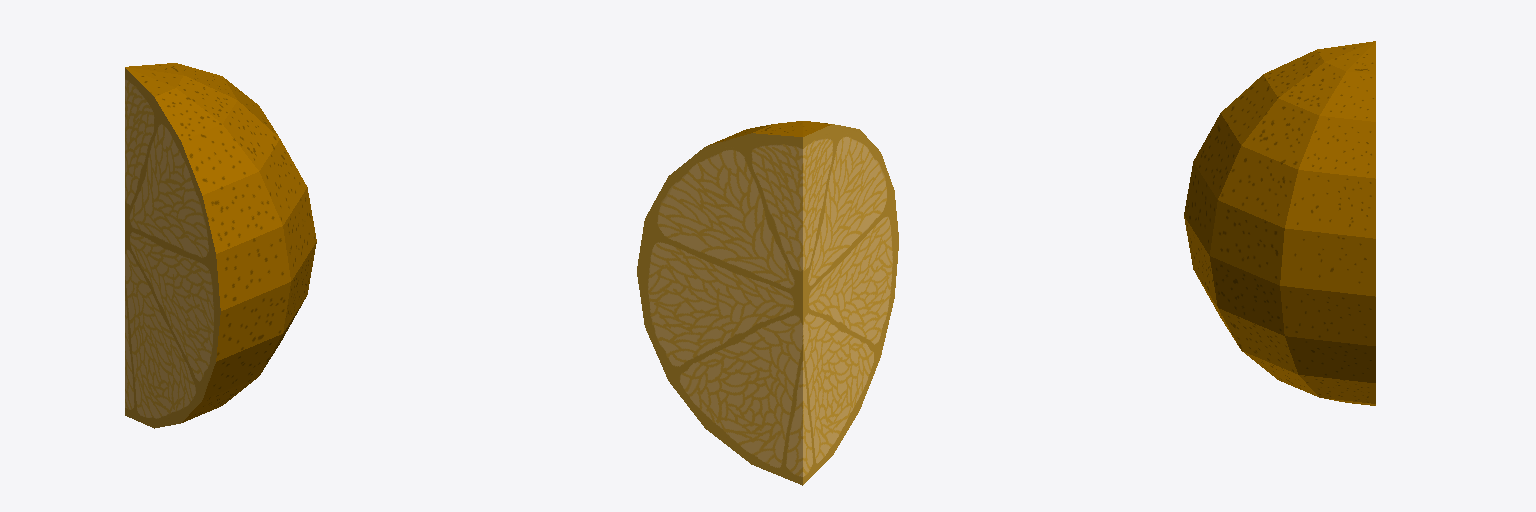
3 views of the same model, side by side, from view 1: azimuth 30°, elevation 25°; view 2: azimuth 150°, elevation 25°; view 3: azimuth 270°, elevation 25° (orthographic).
Parts seen in each view (by area): view 1: Naranaja-1_4_Sphere.002; view 2: Naranaja-1_4_Sphere.002; view 3: Naranaja-1_4_Sphere.002.
Part boxes in pixels (bbox=[...]): Naranaja-1_4_Sphere.002: bbox=[125, 63, 316, 428]; Naranaja-1_4_Sphere.002: bbox=[637, 121, 898, 485]; Naranaja-1_4_Sphere.002: bbox=[1184, 41, 1375, 405].
Size of the model in its own units: 1 by 2 by 1.
Materials: 1 (1 with a texture image).